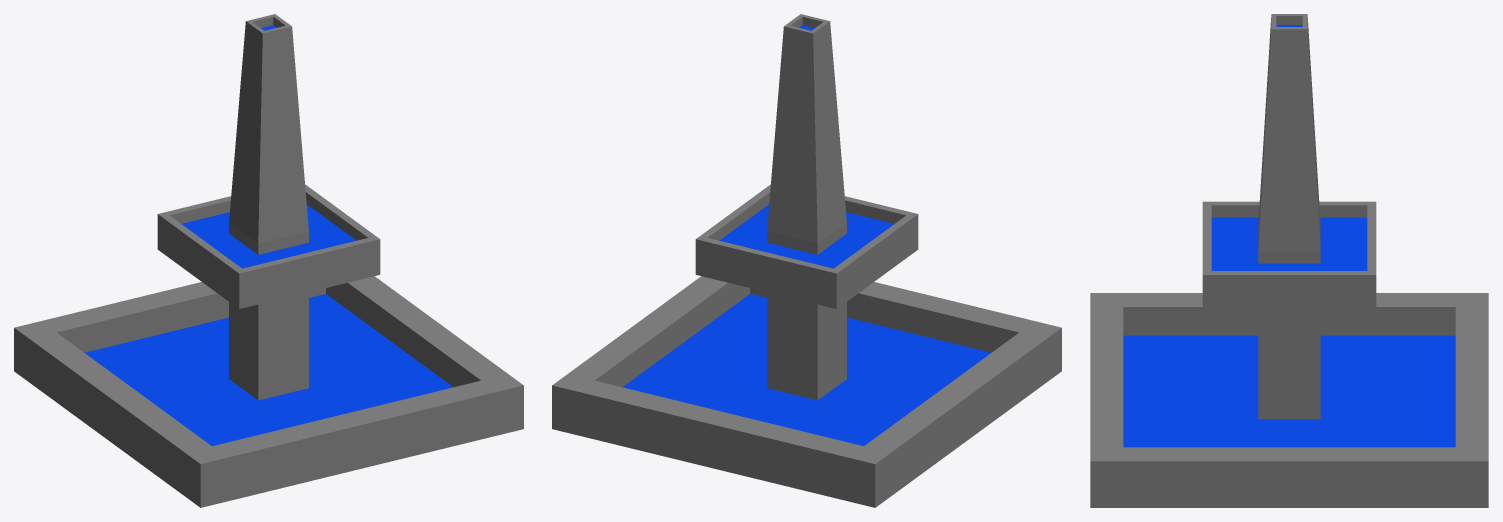
File: WaterFountain.fbx
The picture shows the model from 3 angles, left to right: view 1: azimuth 30°, elevation 25°; view 2: azimuth 150°, elevation 25°; view 3: azimuth 270°, elevation 25°; orthographic projection. The views are drawn at different scales.
Parts seen in each view (by area): view 1: WaterFountain; view 2: WaterFountain; view 3: WaterFountain.
Boxes of the visible parts, <box> form: WaterFountain: <box>14,14,523,507</box>; WaterFountain: <box>552,14,1061,507</box>; WaterFountain: <box>1090,14,1488,507</box>.
Bounding box in the file's own units: 0.6 × 0.6 × 0.6681.
